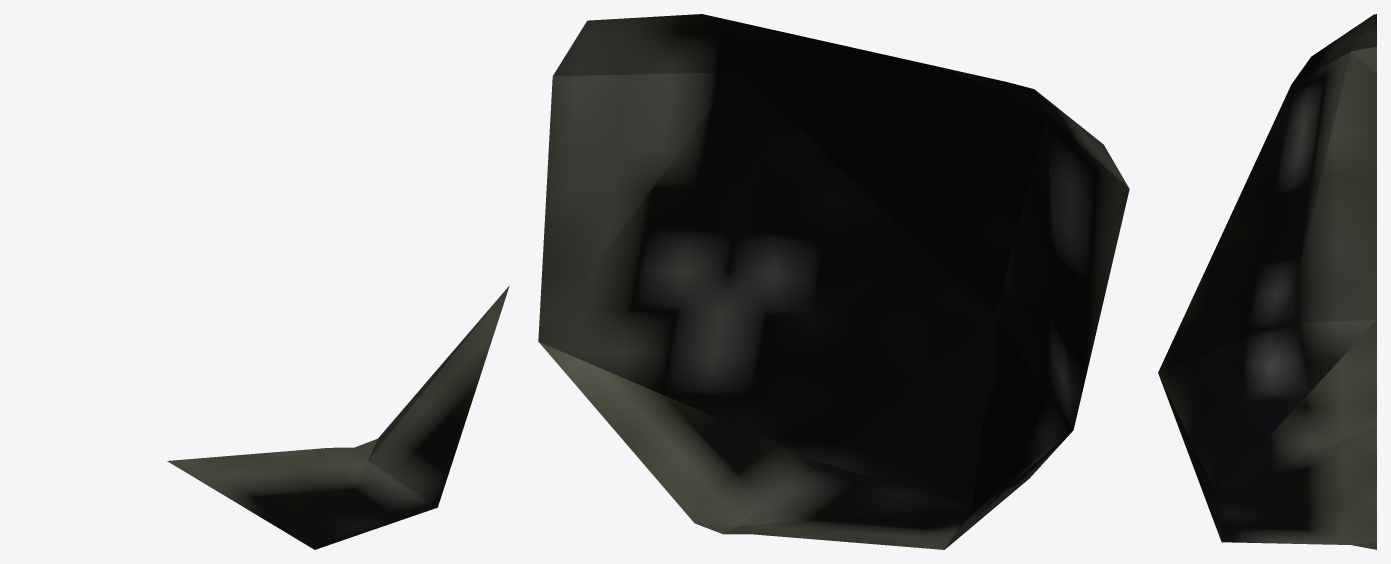
3 views of the same model, side by side, from view 1: azimuth 30°, elevation 25°; view 2: azimuth 150°, elevation 25°; view 3: azimuth 270°, elevation 25° (orthographic). The views are drawn at different scales.
Bounding box in the file's own units: 0.333 × 0.2663 × 0.1356.
1 material, 1 textured.
